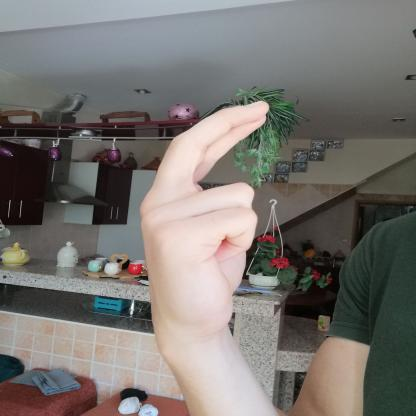ZAY: (128, 92, 281, 354)
